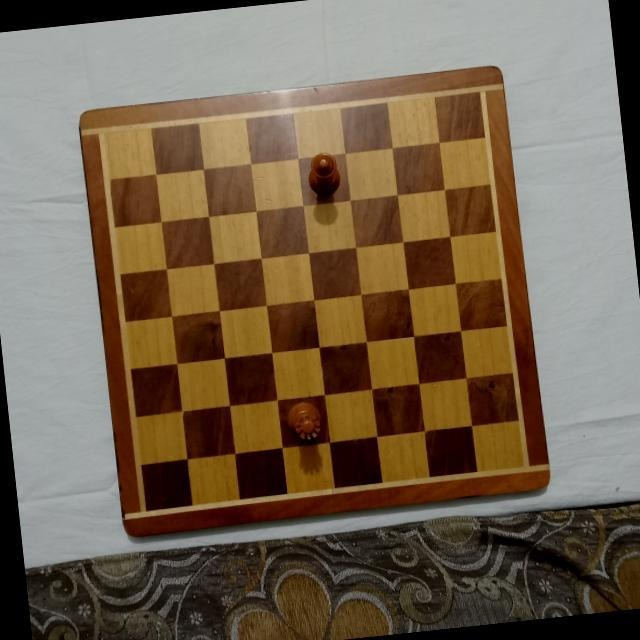white-king: (305, 150, 343, 198)
white-queen: (286, 396, 325, 443)
